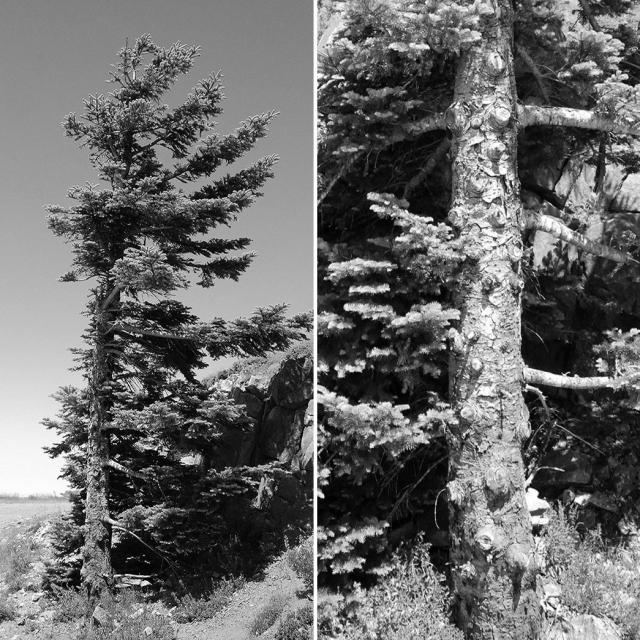Abies: (319, 12, 640, 624), (45, 28, 299, 618)
